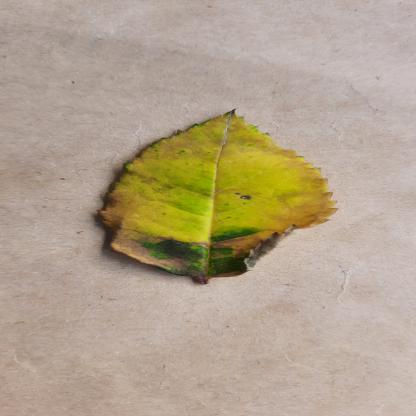black-spot: (86, 108, 341, 282)
